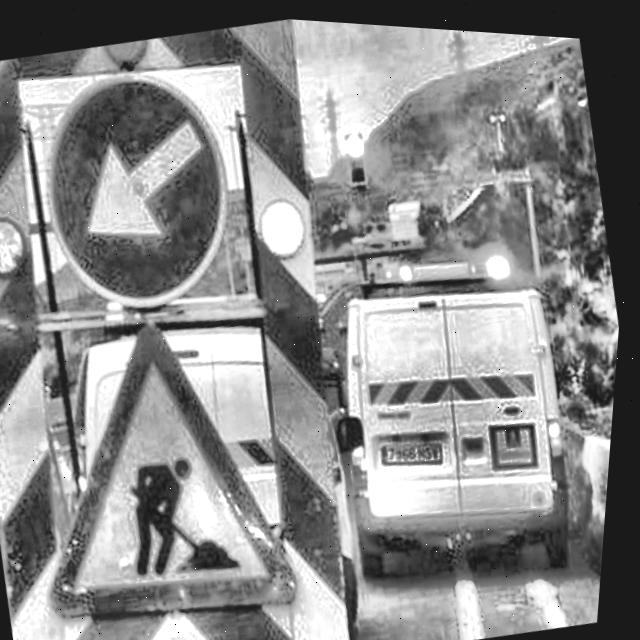light_vehicle: (305, 207, 629, 624)
